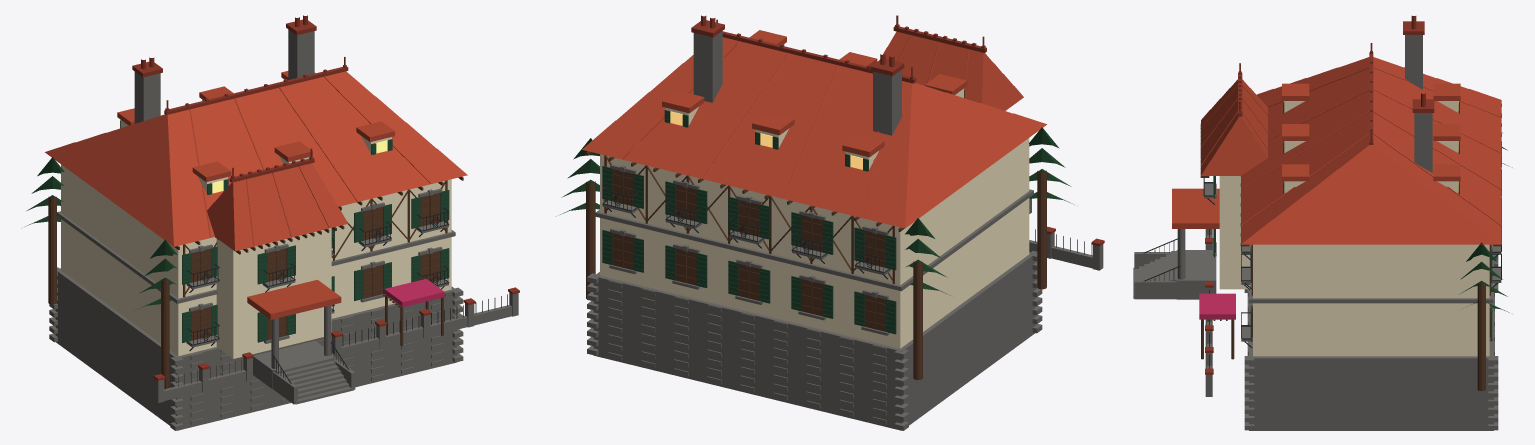
The model's file is fv_ll_04_ana_mandara_villa_11_provence.glb.
The picture shows the model from 3 angles, left to right: view 1: azimuth 30°, elevation 25°; view 2: azimuth 150°, elevation 25°; view 3: azimuth 270°, elevation 25°; orthographic projection. The views are drawn at different scales.
Visible parts, largest first — view 1: marseille_corrugated_roof_tiles, granite_foundation_and_stairs, stucco_facade_and_dormers, colombage_timber_and_eaves, pine_green_louvered_shutters, ridge_cresting_and_chimneys, wrought_iron_balconies_3d, pine_trees_and_garden_hedges, bougainvillea_pergola_clusters; view 2: marseille_corrugated_roof_tiles, granite_foundation_and_stairs, stucco_facade_and_dormers, colombage_timber_and_eaves, pine_green_louvered_shutters, ridge_cresting_and_chimneys, pine_trees_and_garden_hedges, wrought_iron_balconies_3d; view 3: marseille_corrugated_roof_tiles, stucco_facade_and_dormers, granite_foundation_and_stairs, colombage_timber_and_eaves, ridge_cresting_and_chimneys, bougainvillea_pergola_clusters, wrought_iron_balconies_3d, pine_trees_and_garden_hedges, pine_green_louvered_shutters.
Part boxes in pixels (box(x1,y1,x2,y2)): marseille_corrugated_roof_tiles: box(45, 71, 467, 319); granite_foundation_and_stairs: box(49, 29, 518, 430); stucco_facade_and_dormers: box(61, 99, 451, 358); colombage_timber_and_eaves: box(48, 176, 463, 386); pine_green_louvered_shutters: box(120, 100, 449, 342); ridge_cresting_and_chimneys: box(132, 15, 519, 380); wrought_iron_balconies_3d: box(165, 207, 507, 389); pine_trees_and_garden_hedges: box(21, 157, 177, 310); bougainvillea_pergola_clusters: box(384, 278, 444, 307); marseille_corrugated_roof_tiles: box(582, 30, 1046, 228); granite_foundation_and_stairs: box(587, 31, 1103, 430); stucco_facade_and_dormers: box(600, 88, 1029, 348); colombage_timber_and_eaves: box(586, 151, 1046, 380); pine_green_louvered_shutters: box(602, 89, 964, 334); ridge_cresting_and_chimneys: box(691, 15, 1104, 246); pine_trees_and_garden_hedges: box(556, 127, 1074, 295); wrought_iron_balconies_3d: box(602, 185, 1091, 279); marseille_corrugated_roof_tiles: box(1172, 57, 1501, 244); stucco_facade_and_dormers: box(1219, 101, 1489, 356); granite_foundation_and_stairs: box(1133, 35, 1501, 430); colombage_timber_and_eaves: box(1200, 104, 1501, 391); ridge_cresting_and_chimneys: box(1205, 16, 1434, 374); bougainvillea_pergola_clusters: box(1199, 293, 1235, 319); wrought_iron_balconies_3d: box(1143, 141, 1501, 368); pine_trees_and_garden_hedges: box(1459, 132, 1512, 312); pine_green_louvered_shutters: box(1213, 101, 1492, 341).
Size of the model in its own units: 25.1 by 19.73 by 22.91.
